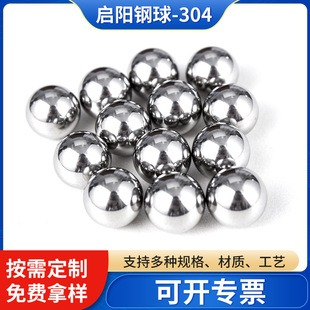ironball: (205, 165, 267, 227), (143, 171, 205, 233), (82, 166, 143, 228), (52, 130, 111, 189), (94, 98, 151, 156), (132, 127, 191, 183), (191, 122, 250, 176), (25, 84, 80, 139), (147, 78, 201, 134), (202, 83, 258, 134), (79, 66, 131, 118), (128, 47, 178, 99), (185, 45, 238, 93)
